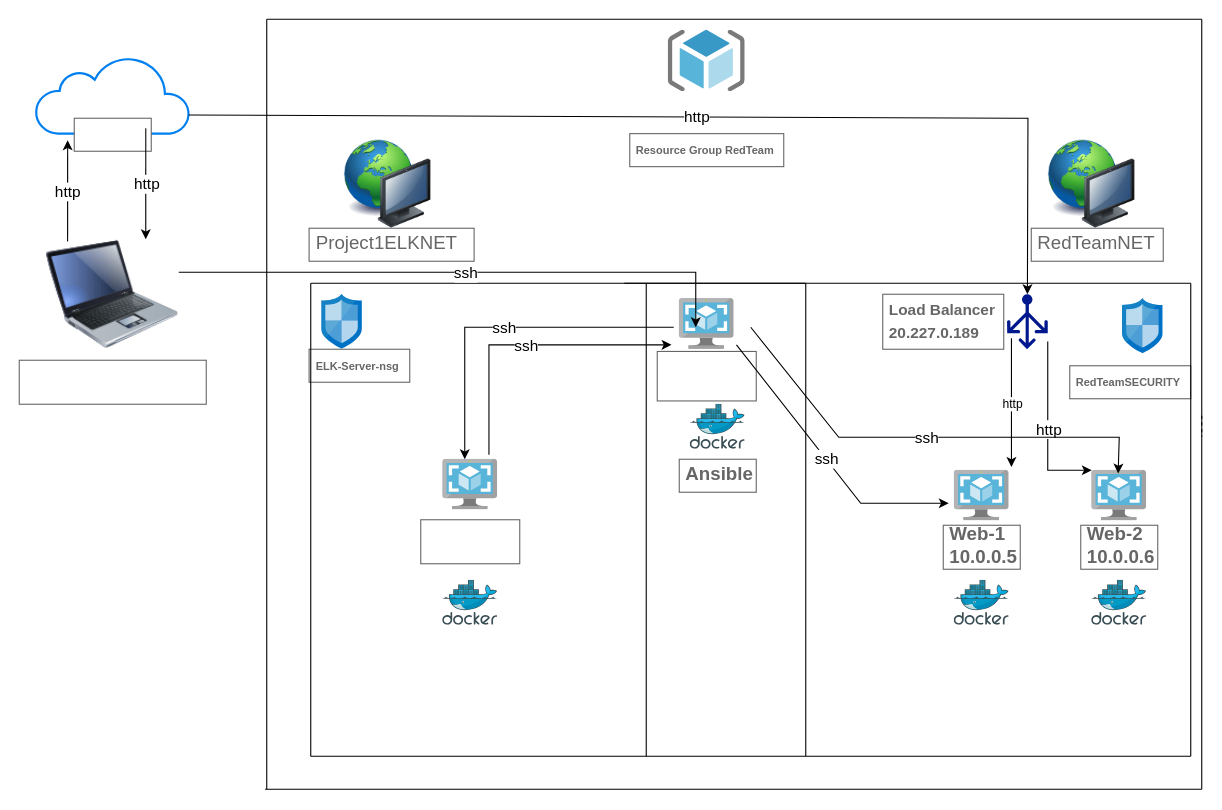
Image size: 1222x810. Some labels were removed from this diagram. The centre of each missing label's shape, as x and y in pixels:
"elk server 10.1.0.4" goes at (470,541).
"Internet" goes at (112,134).
"Jumpbox 10.0.0.4" goes at (706,375).
"My Home Computer 24.179.181.32" goes at (112,381).
